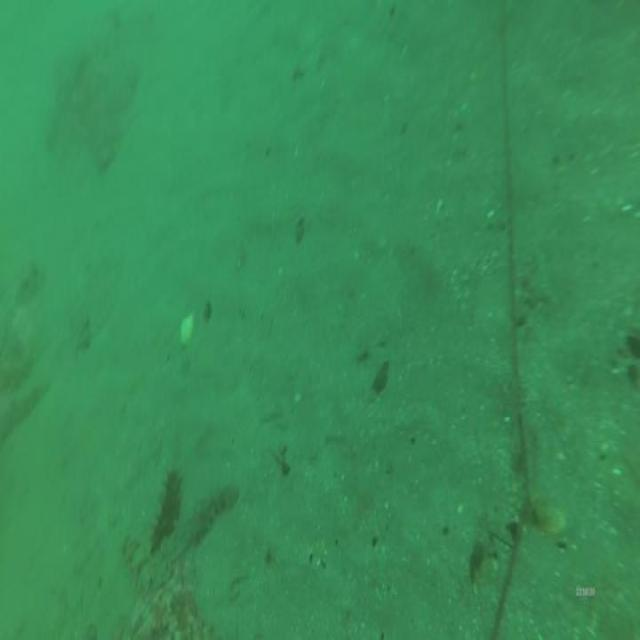holothurian: (165, 480, 240, 566), (118, 530, 174, 600), (147, 463, 186, 559)
scallop: (177, 306, 196, 352)
